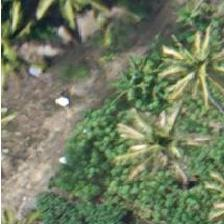coconut_tree: (107, 92, 197, 182), (153, 19, 223, 109)
